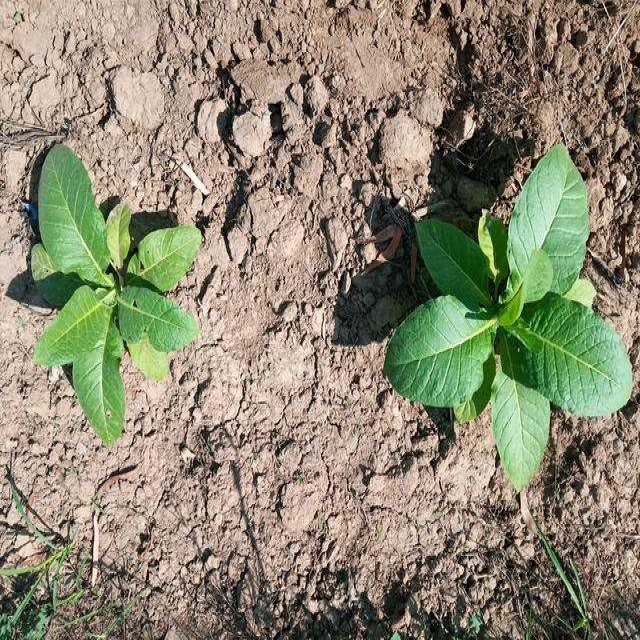crop: (402, 153, 628, 488), (35, 144, 202, 452)
